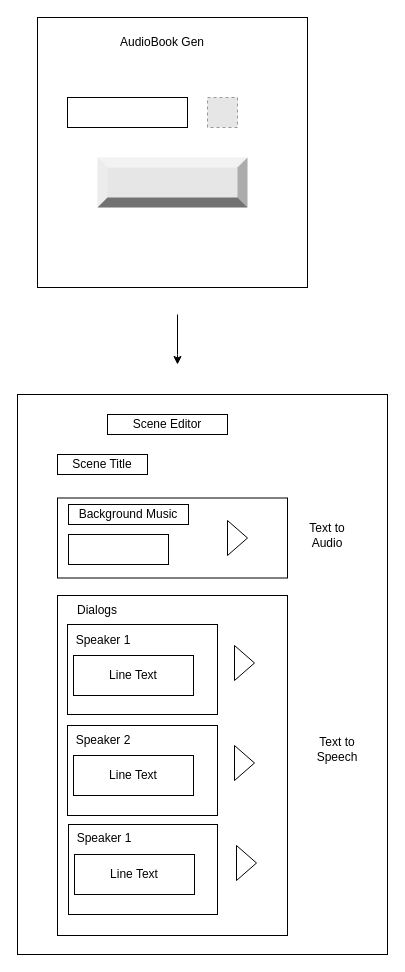
The diagram is 405 pixels wide and 972 high, and some of its shapes have lost their labels. Grey dashed boxes stand in for pictures. The centre of each missing label's shape, as x and y in pixels:
"Generate Scene Editor" belongs at point (172, 182).
"Script Doc Upload Field" belongs at point (127, 112).
"sound effects" belongs at point (118, 549).
